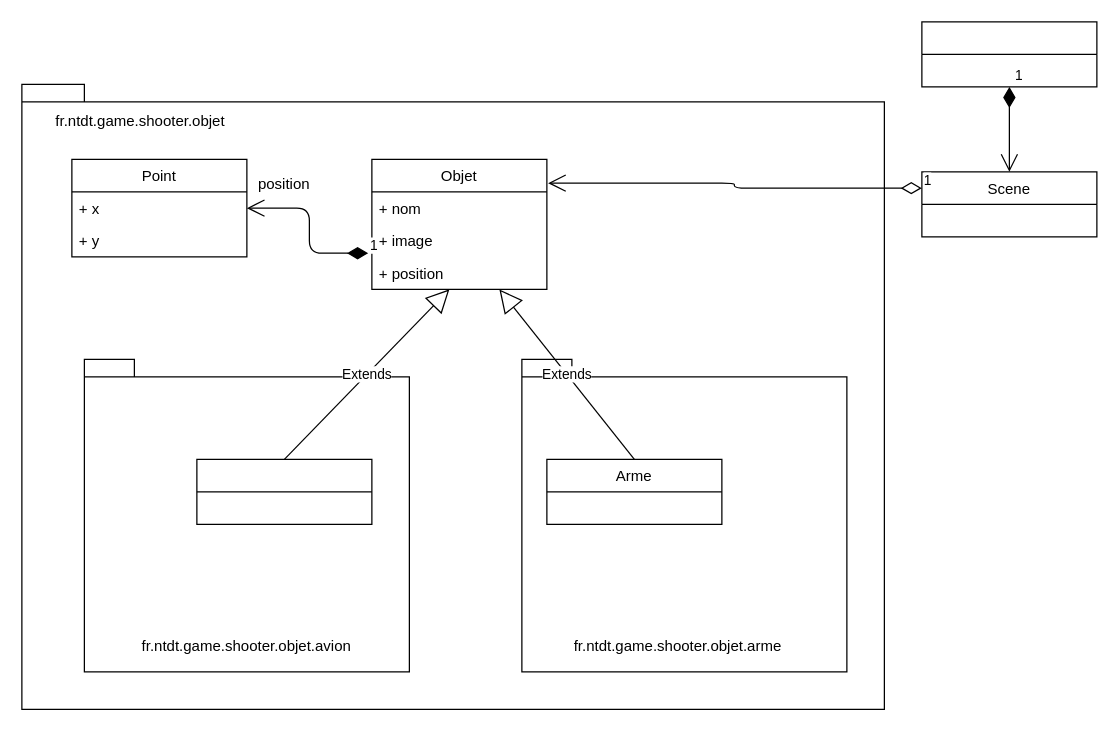
The diagram is 1119 pixels wide and 731 high, and some of its shapes have lost their labels. Each missing label, with the centre of its shape:
"App" goes at (1009,54).
"Avion" goes at (284,491).
